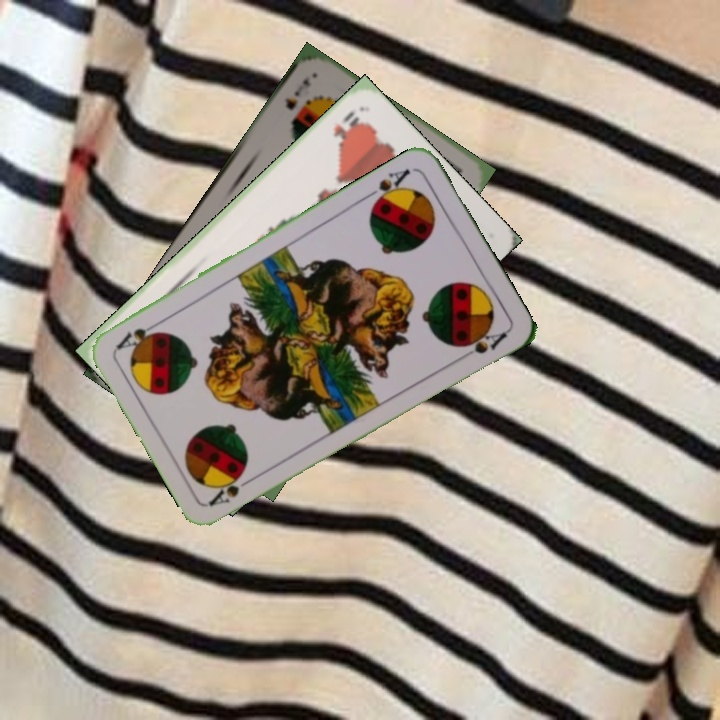HO: (329, 107, 364, 148)
SA: (361, 164, 413, 210), (205, 471, 259, 509)
SO: (280, 74, 313, 113)
